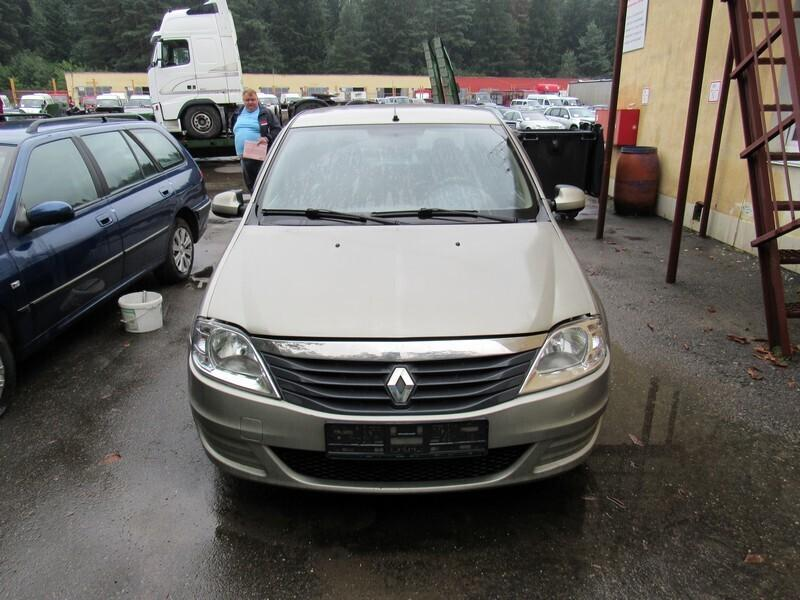Logan_2008-2015: (191, 100, 610, 512)
